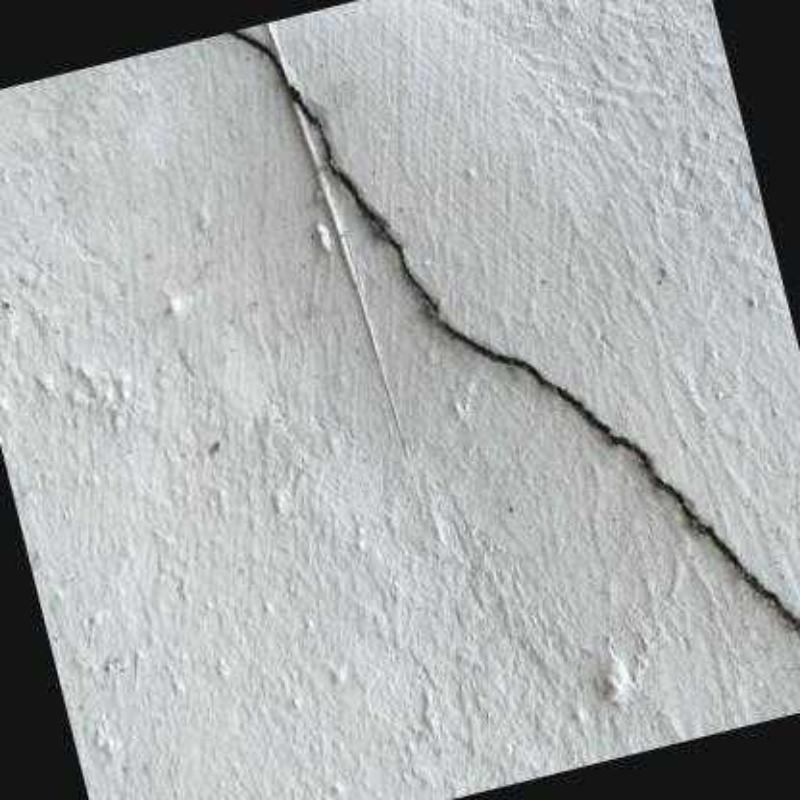pothole: (229, 32, 799, 633)
